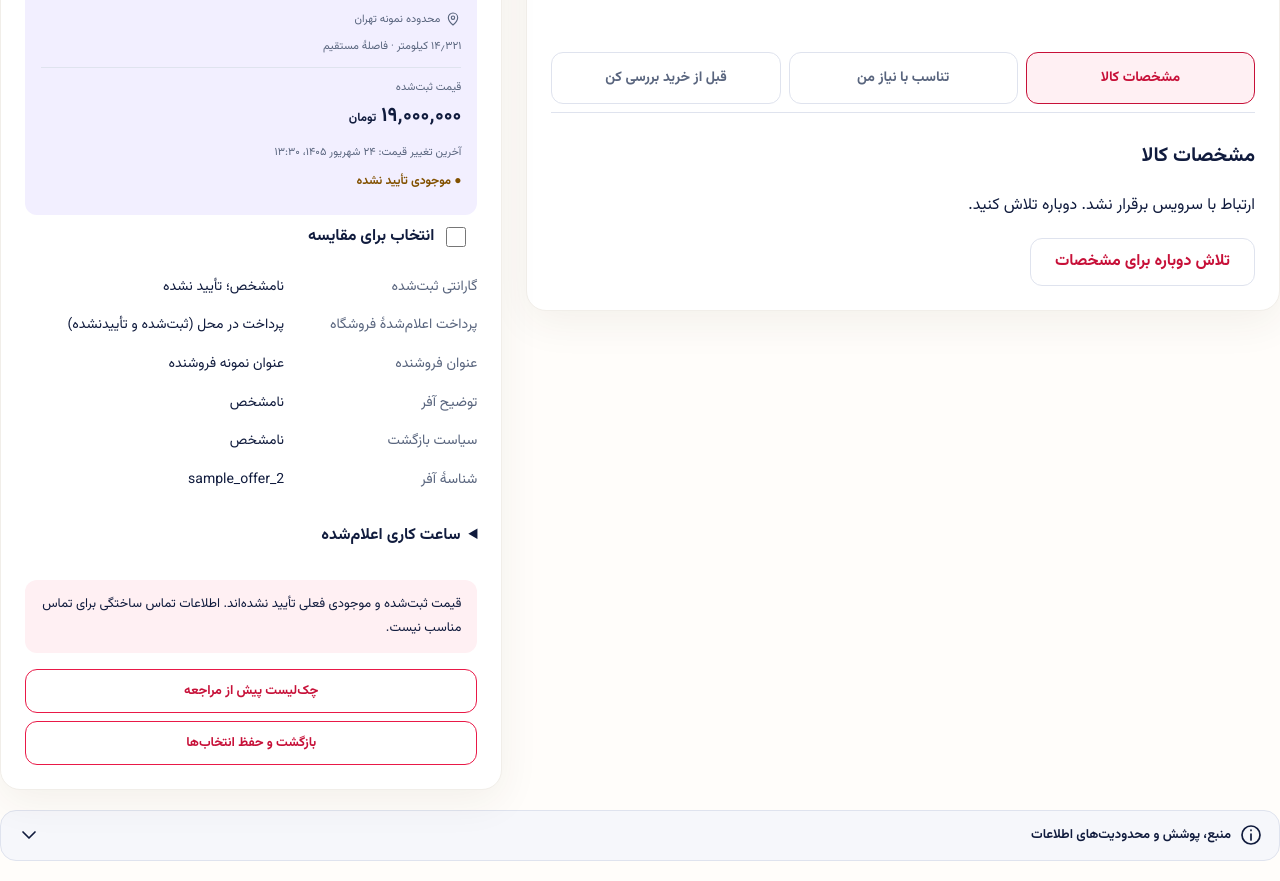
it: retains the accordion and source warnings on the product route
The width and height of the screenshot is (1280, 881).
(page scrolled)
Click the heading "منبع، پوشش و محدودیت‌های اطلاعات".
click(1131, 835)  # box [17,824,1263,848]
(page scrolled)
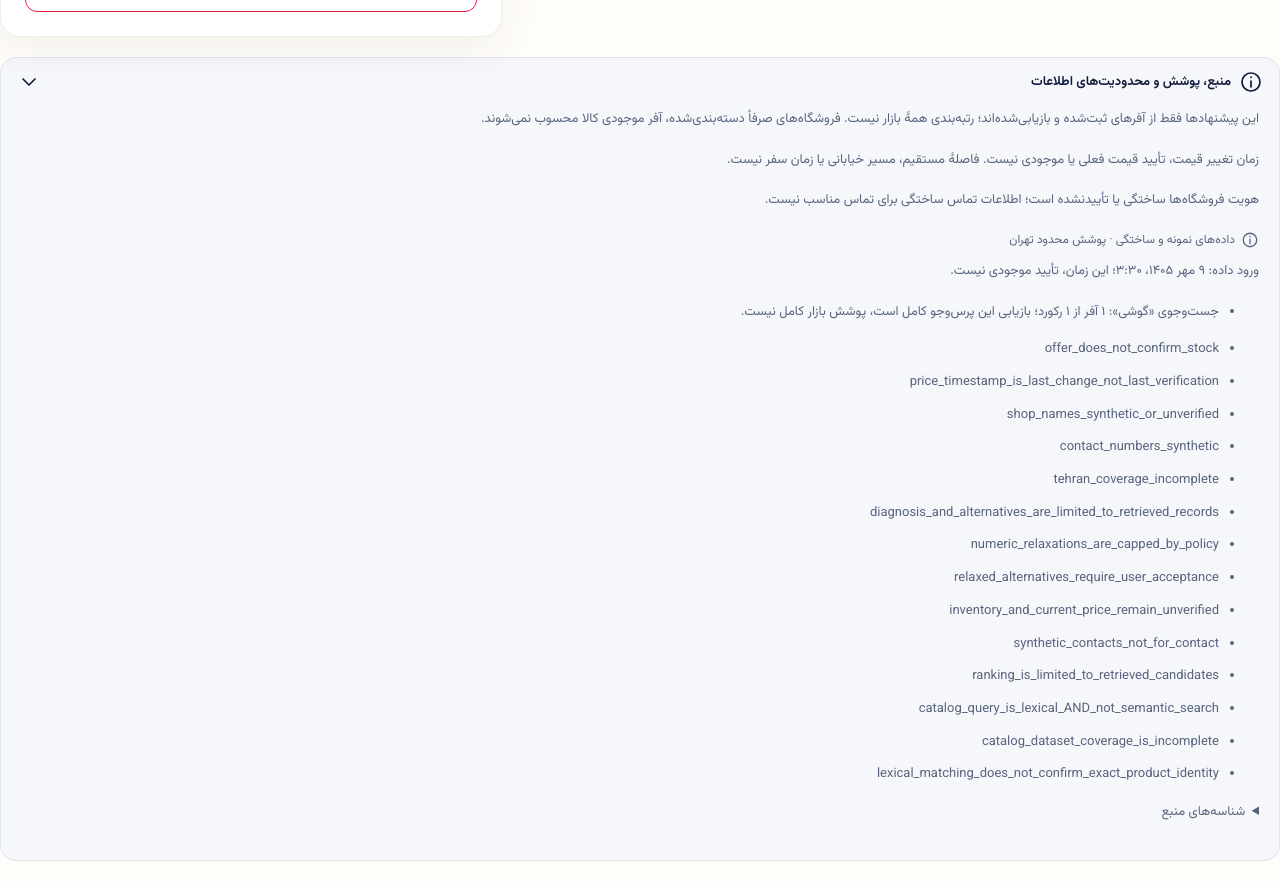
expect the list item "offer_does_not_confirm_stock" is shown: met, box [1045,339,1219,359]
expect the list item "price_timestamp_is_last_change_not_last_verification" is shown: met, box [910,372,1219,392]
expect the list item "shop_names_synthetic_or_unverified" is shown: met, box [1007,405,1219,425]
